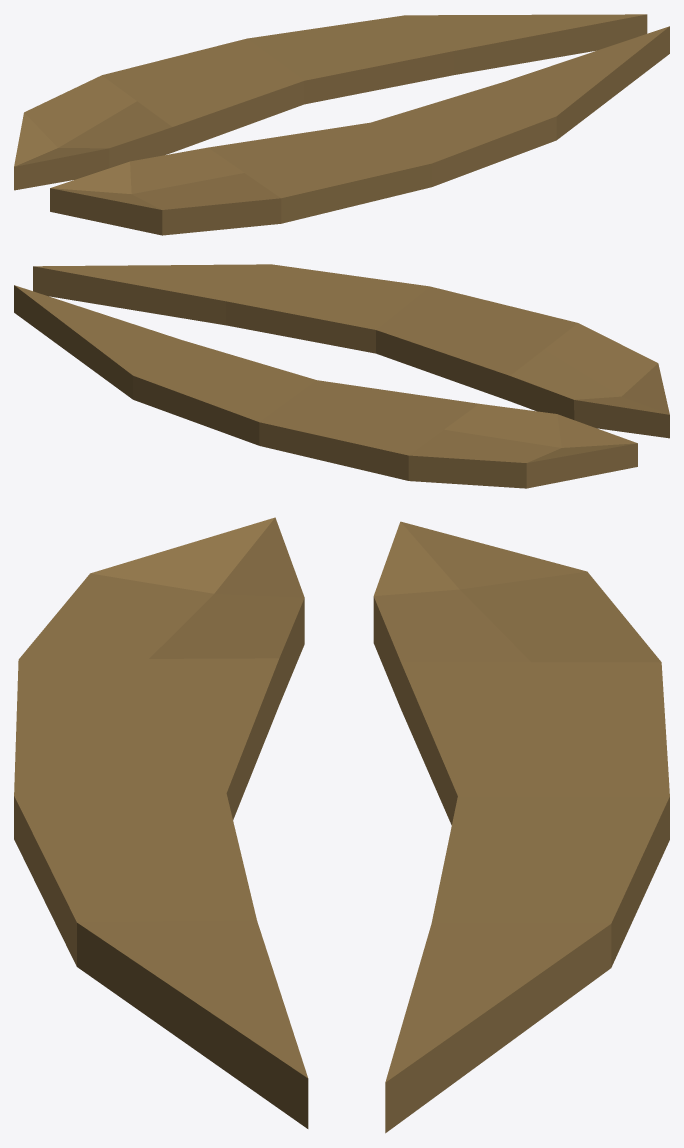
The model's file is kudoTracks.fbx.
3 views of the same model, one above another, from view 1: azimuth 30°, elevation 25°; view 2: azimuth 150°, elevation 25°; view 3: azimuth 270°, elevation 25° (orthographic). The views are drawn at different scales.
Parts seen in each view (by area): view 1: kudoTrack; view 2: kudoTrack; view 3: kudoTrack.
Part boxes in pixels (left/top/right/bottom): kudoTrack: left=14, top=14, right=669, bottom=235; kudoTrack: left=14, top=264, right=669, bottom=488; kudoTrack: left=14, top=517, right=669, bottom=1133.
Size of the model in its own units: 293 by 13.63 by 143.
